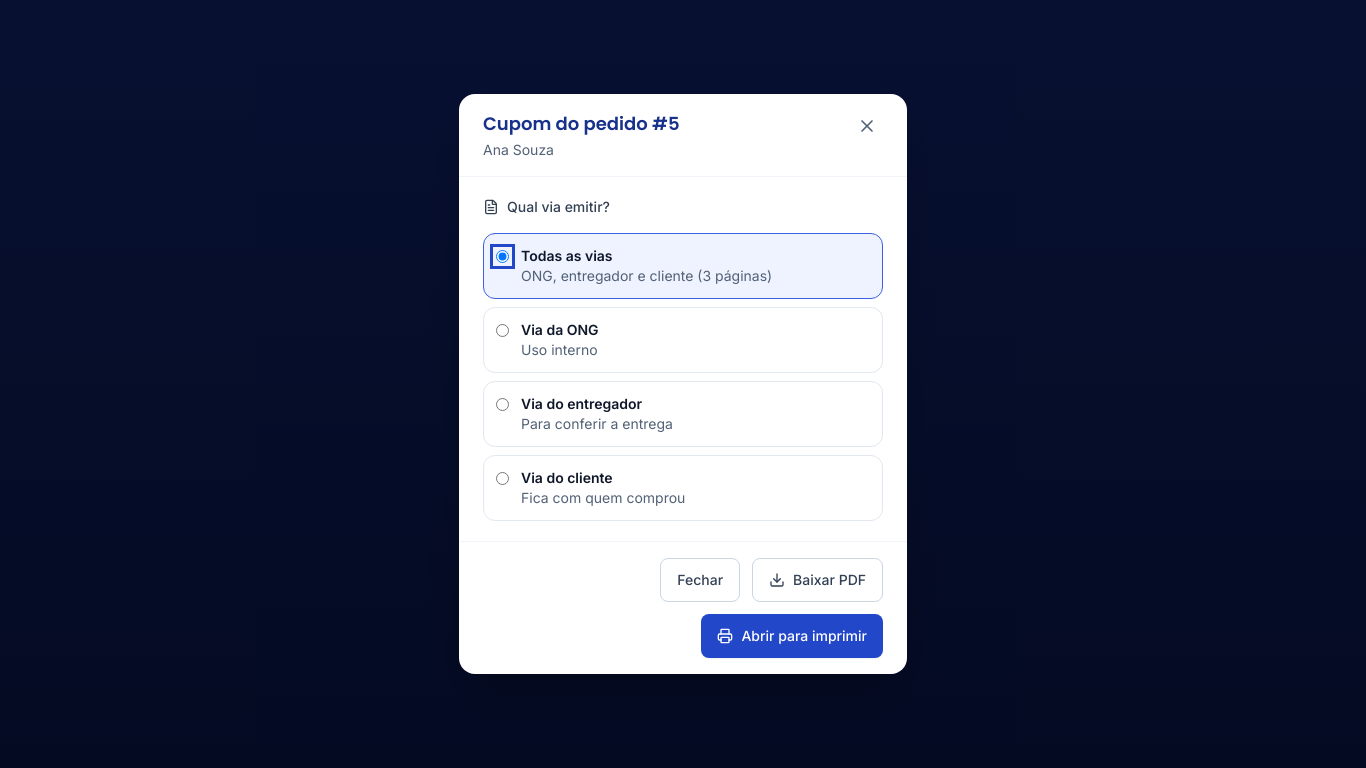
Test case: CupomModal › pedido cancelado: mostra a recusa do servidor
The width and height of the screenshot is (1366, 768).
Click the button "Abrir para imprimir". click: (792, 636)
box: [701,614,883,658]
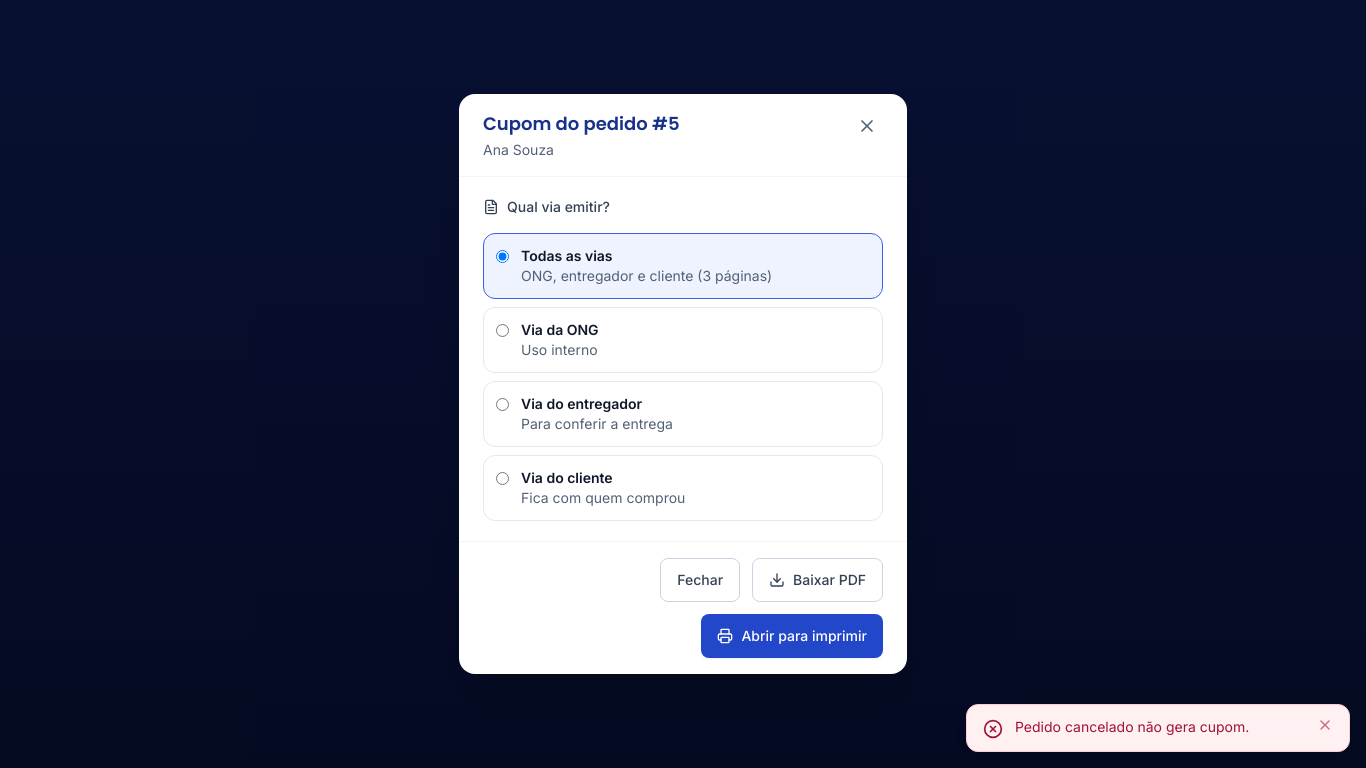
Result: the text "Pedido cancelado não gera cupom." is shown at [1015,718,1249,735]
